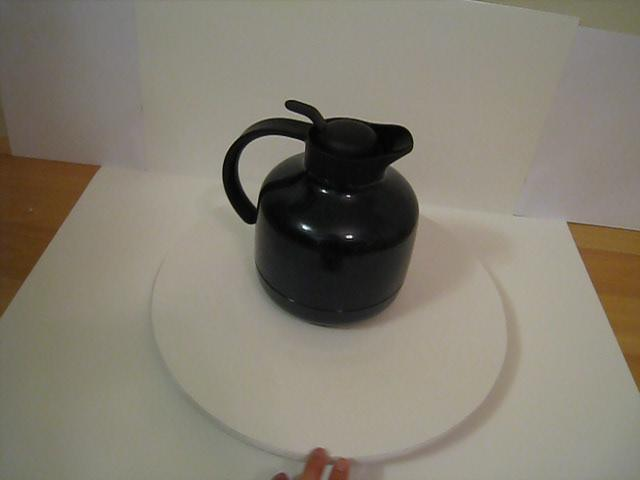pitcher: (224, 92, 418, 340)
